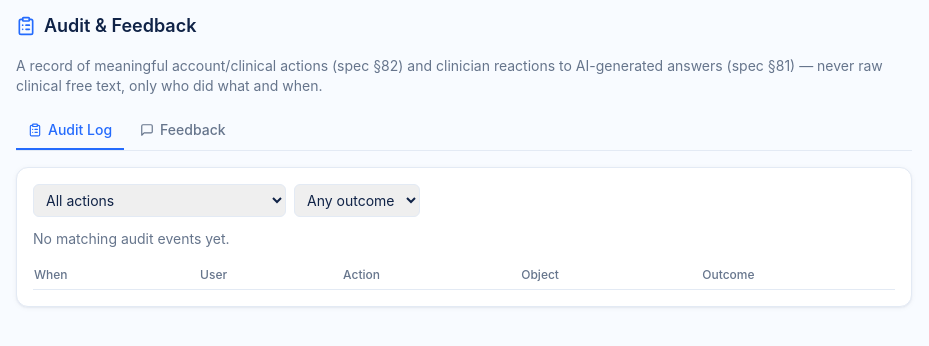
Test: Audit & Feedback page › switches to the Feedback tab and lists real feedback rows
Click the button "Feedback": (183, 131) [128,112,238,150]
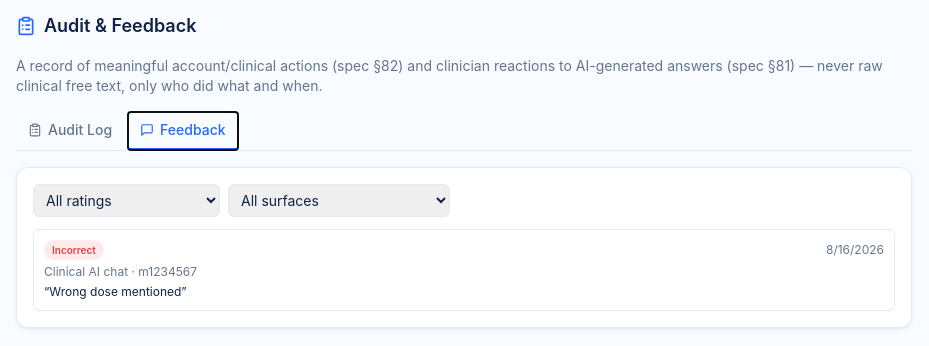
Expected: the text "“Wrong dose mentioned”" is shown, [44,284,187,299]
